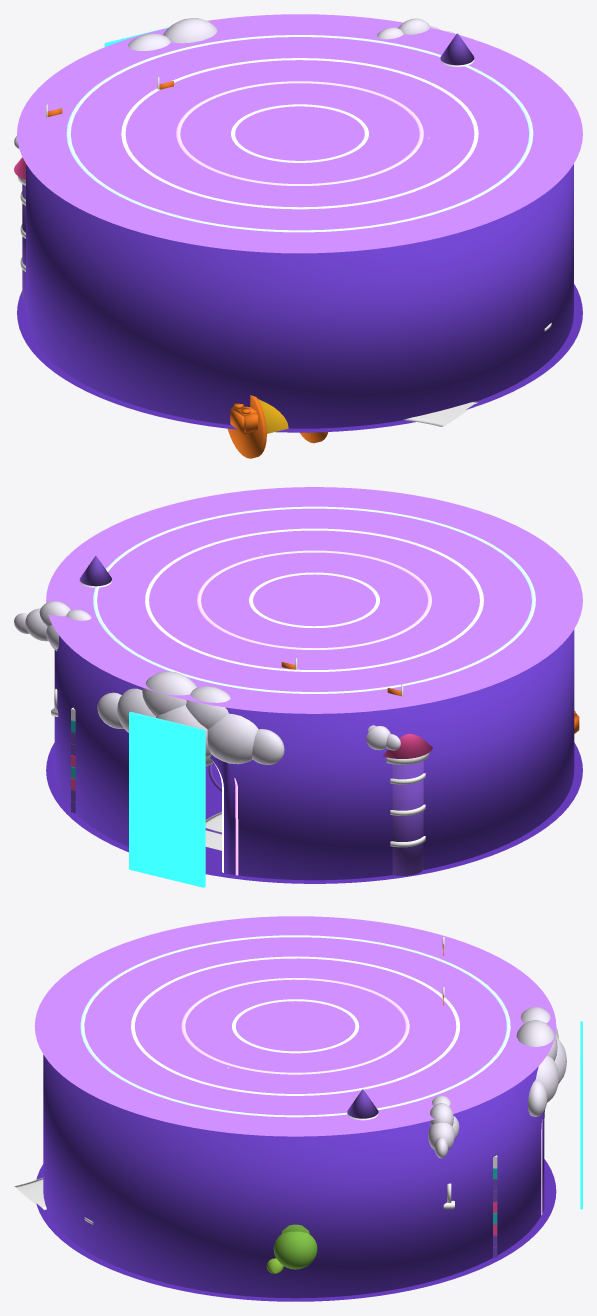
The model's file is sala_mundo.glb.
3 renders of one model, top to bottom at view 1: azimuth 30°, elevation 25°; view 2: azimuth 150°, elevation 25°; view 3: azimuth 270°, elevation 25°, orthographic. The views are drawn at different scales.
Parts seen in each view (by area): view 1: m_ceil, m_wall_m_#7b4dc9, m_neonw, m_floor, m_neonc, m_m_#f6f0ff, m_neonp, m_m_#ff7a1a.011, m_path, m_m_#ff7a1a.012, m_m_#7b4dc9.002; view 2: m_ceil, m_wall_m_#7b4dc9, m_cyan, m_m_#f6f0ff, m_floor, m_neonw, m_m_#7b4dc9.009, m_neonc, m_neonp, m_m_#ffffff.012, m_m_#7b4dc9.002, m_m_#ff4fa3.011 (+1 smaller); view 3: m_ceil, m_wall_m_#7b4dc9, m_m_#f6f0ff, m_floor, m_neonw, m_neonc, m_neonp, m_m_#7cc040, m_m_#7b4dc9.002, m_cyan, m_path.
Part boxes in pixels (x1,y1,x2,y2): m_ceil: (17,14,582,253); m_wall_m_#7b4dc9: (26,164,573,428); m_neonw: (121,58,478,209); m_floor: (17,284,582,432); m_neonc: (66,35,533,232); m_m_#f6f0ff: (14,18,455,148); m_neonp: (176,81,423,185); m_m_#ff7a1a.011: (227,395,328,458); m_path: (403,401,478,426); m_m_#ff7a1a.012: (230,403,257,434); m_m_#7b4dc9.002: (440,33,474,65); m_ceil: (46,487,582,713); m_wall_m_#7b4dc9: (54,629,574,880); m_cyan: (129,711,205,887); m_m_#f6f0ff: (14,553,400,766); m_floor: (46,742,582,883); m_neonw: (145,528,483,872); m_m_#7b4dc9.009: (392,761,423,875); m_neonc: (93,506,535,693); m_neonp: (197,550,431,875); m_m_#ffffff.012: (295,658,429,847); m_m_#7b4dc9.002: (71,556,111,813); m_m_#ff4fa3.011: (383,733,432,758); m_ceil: (34,916,556,1136); m_wall_m_#7b4dc9: (43,1055,544,1298); m_m_#f6f0ff: (227,1007,566,1158); m_floor: (36,1159,556,1301); m_neonw: (131,956,459,1095); m_neonc: (80,935,510,1117); m_neonp: (181,978,542,1215); m_m_#7cc040: (273,1224,317,1269); m_m_#7b4dc9.002: (347,1089,497,1257); m_cyan: (580,1021,582,1209); m_path: (14,1177,46,1210).
Bounding box in the file's own units: 23.99 × 10.85 × 25.36.
